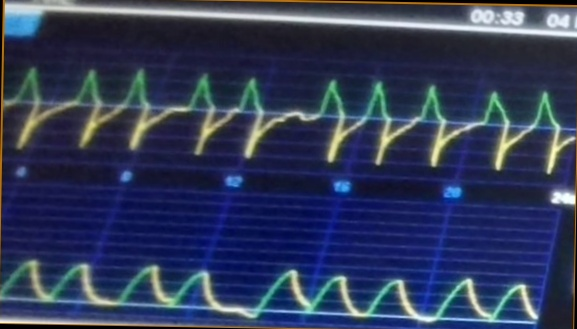Ineffective_effort Flow: (5, 56, 573, 175)
Ineffective_effort Volume: (2, 239, 538, 324)
